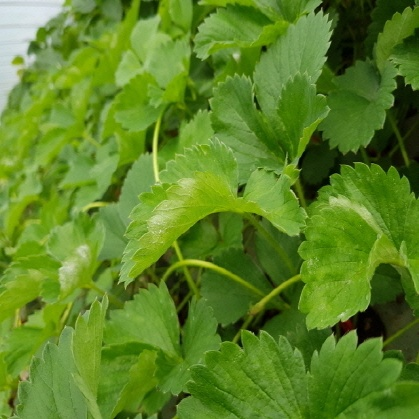Powdery_Leaf: (0, 162, 376, 332), (110, 138, 303, 290), (90, 217, 380, 304)
